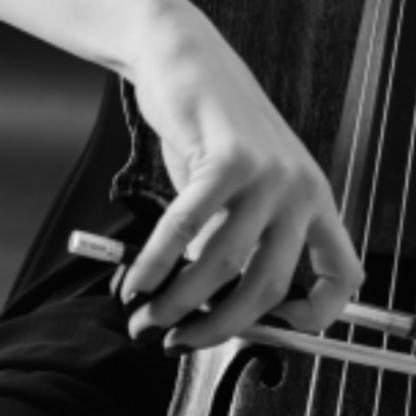bad: (108, 101, 361, 368)
